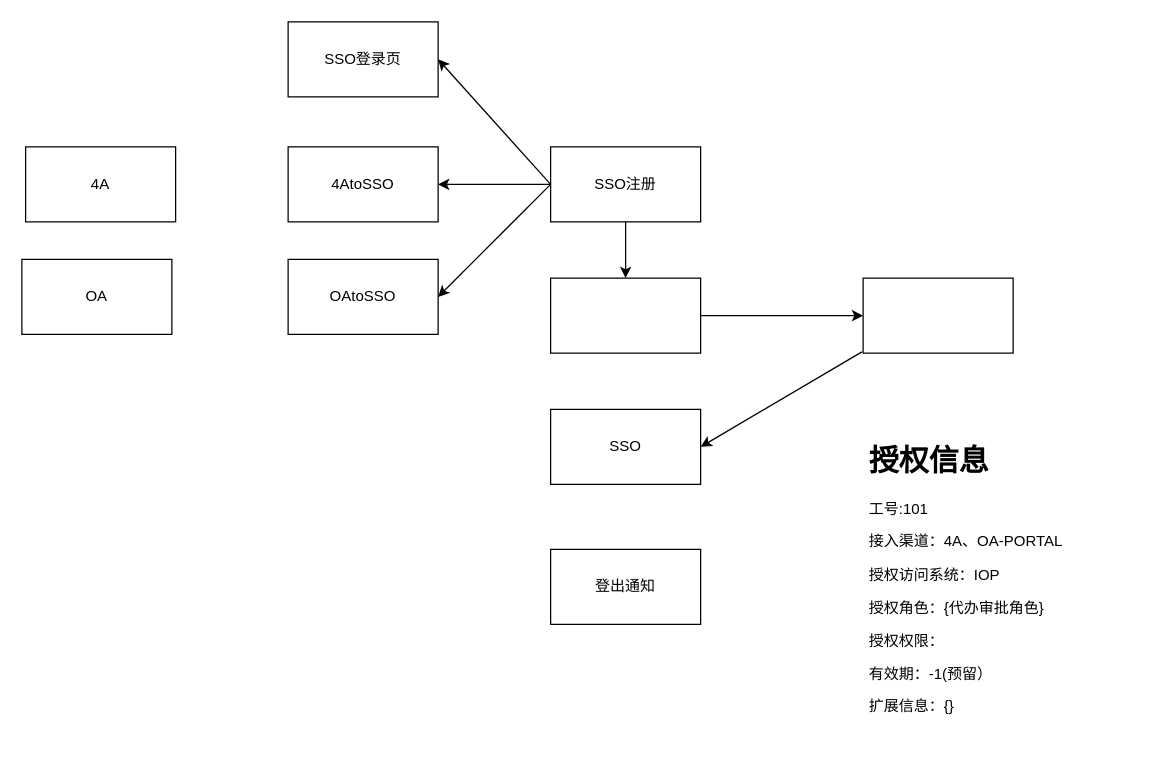
The diagram is 1160 pixels wide and 759 high, and some of its shapes have lost their labels. Here are the shapes that lost their labels. From the top down, the box of each, then its label:
(549, 277, 701, 353): 访问跳转
(862, 277, 1013, 353): 集成认证的系统
